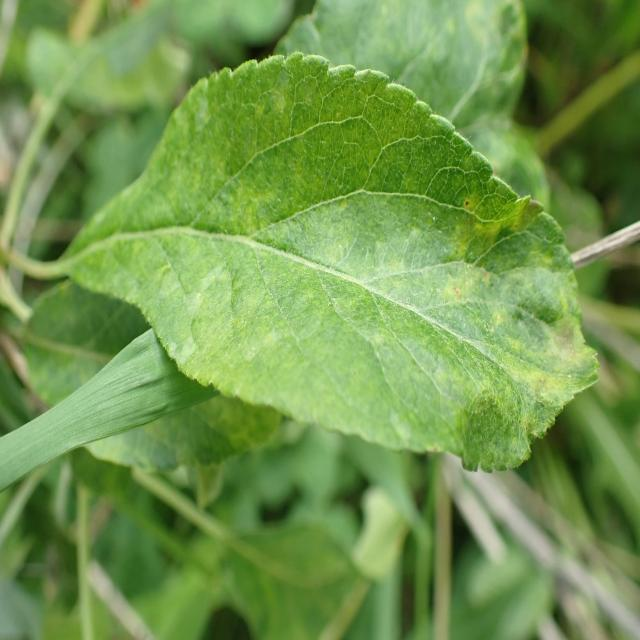scab: (139, 79, 566, 439)
